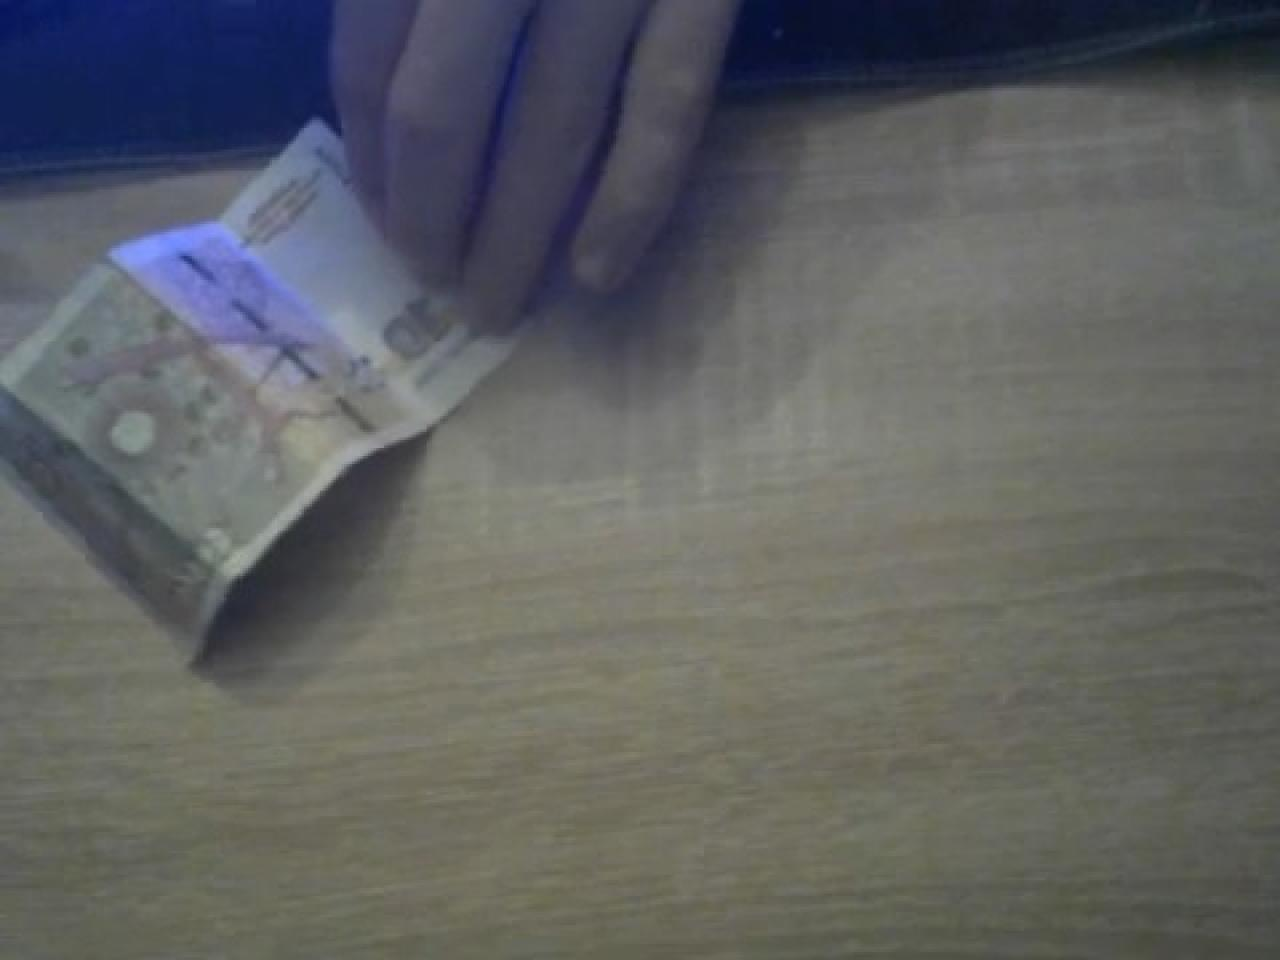10leva: (0, 123, 528, 664)
